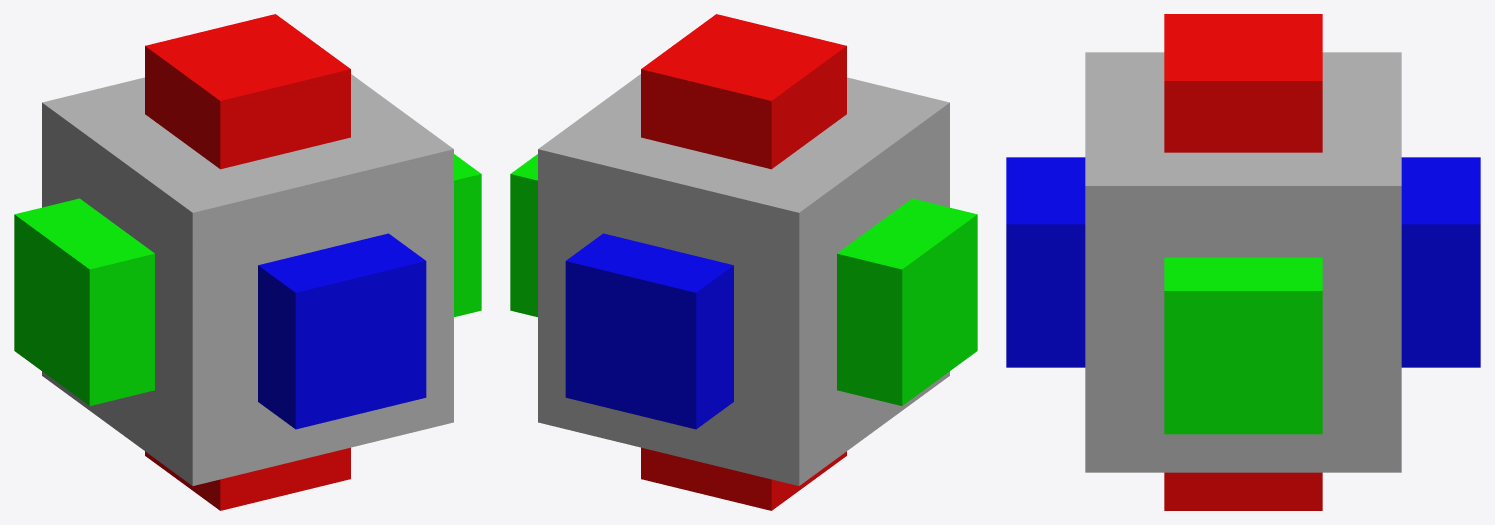
3 views of the same model, side by side, from view 1: azimuth 30°, elevation 25°; view 2: azimuth 150°, elevation 25°; view 3: azimuth 270°, elevation 25° (orthographic). The views are drawn at different scales.
Bounding box in the file's own units: 3 × 3 × 3.
